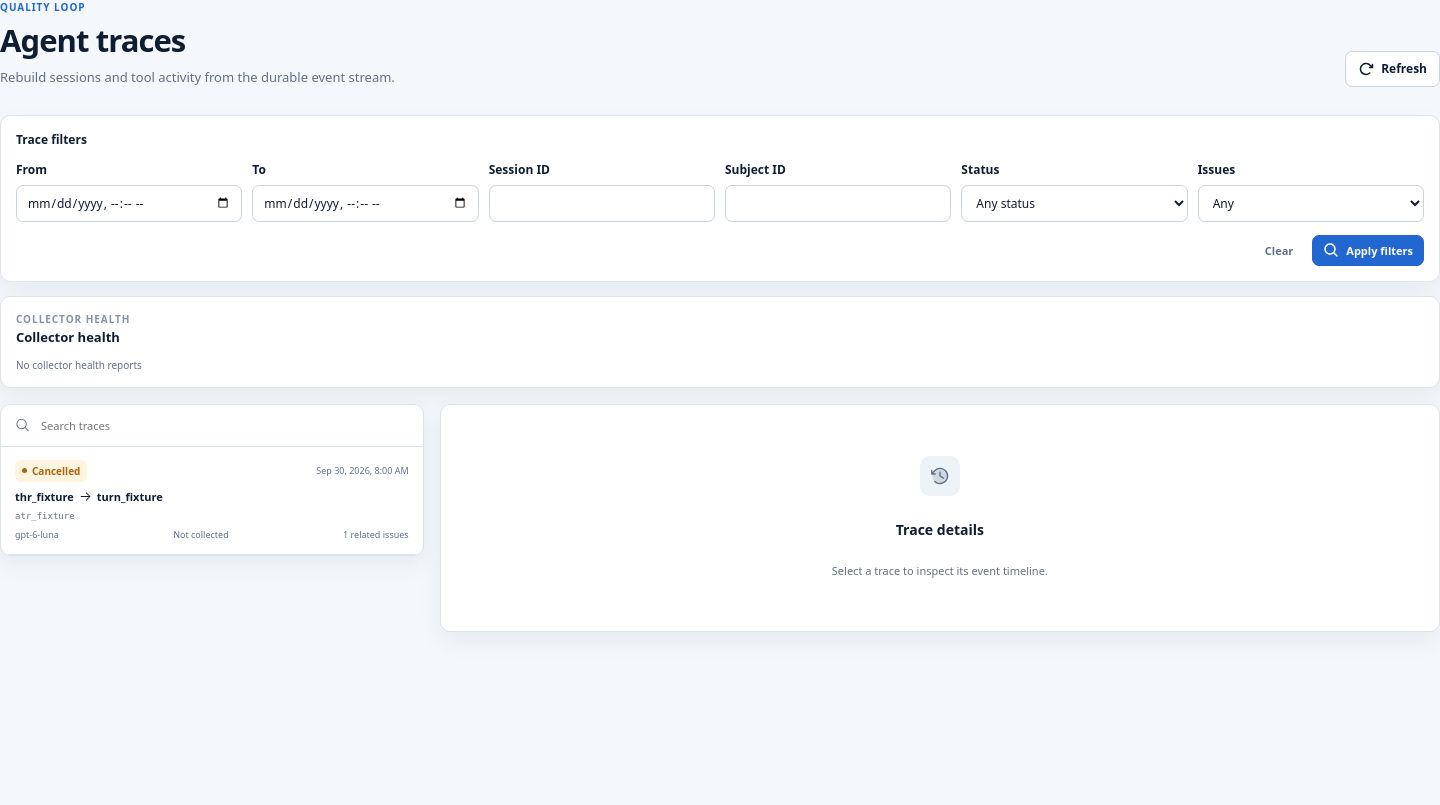
TraceWorkbench durable replay › uses interrupted turn timestamps for the observed turn duration
Click the button that starts with "Cancelled": click(51, 471) [1,447,423,555]
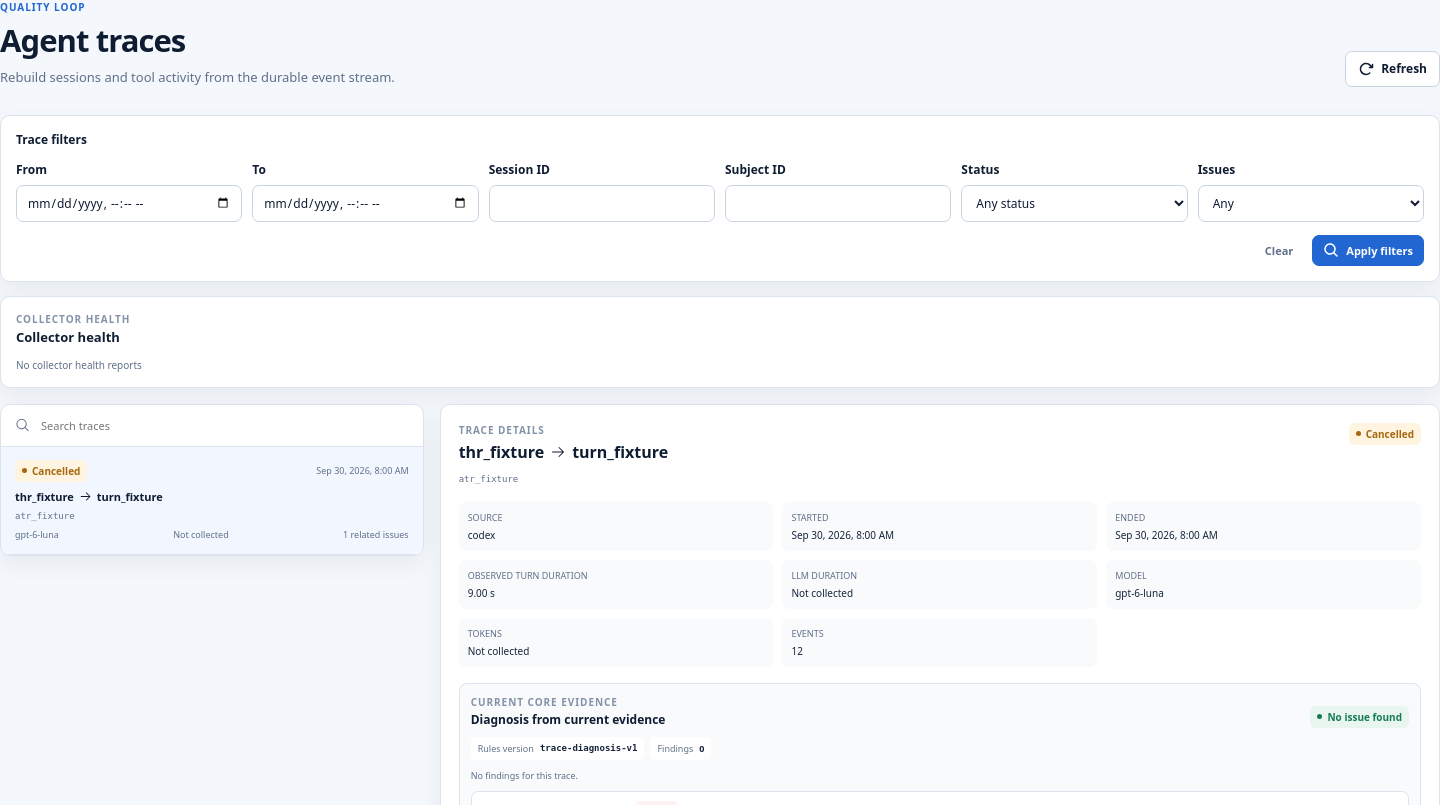
expect the text "9.00 s" is shown: met, box [468,586,495,600]
